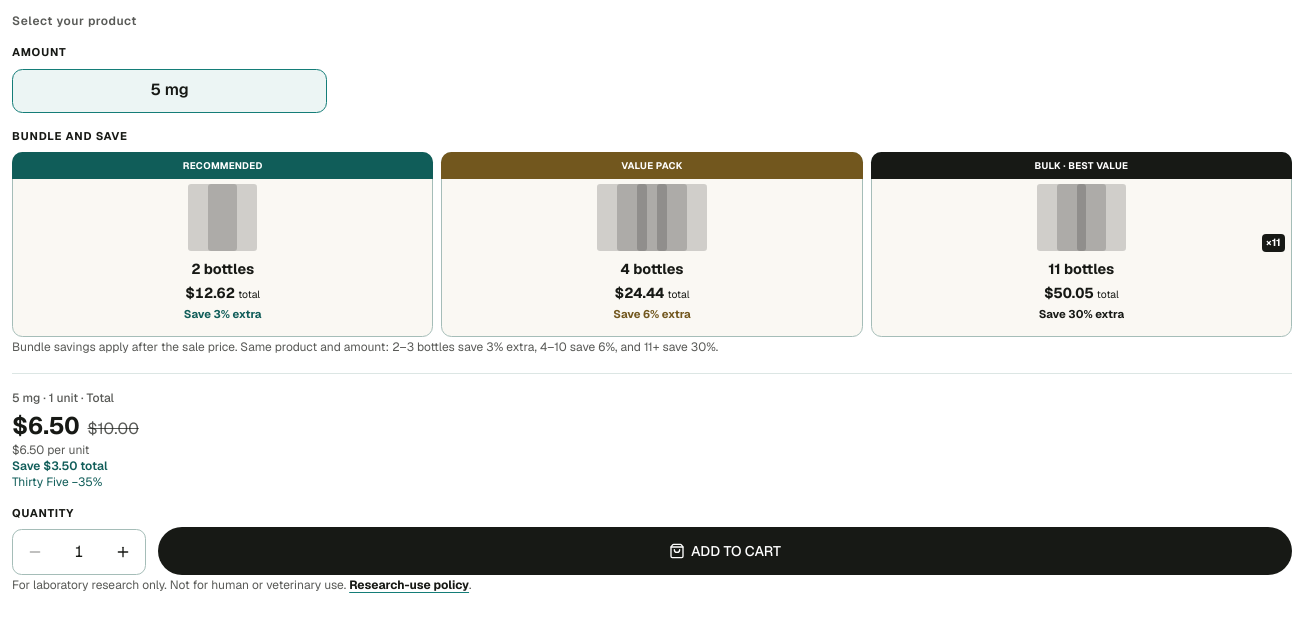
Test: ProductPurchasePanel › uses only the highest eligible discount and its public name
Replace the text in the number field labelled "Quantity" with "10": (79, 552) x1=57 y1=530 x2=101 y2=574
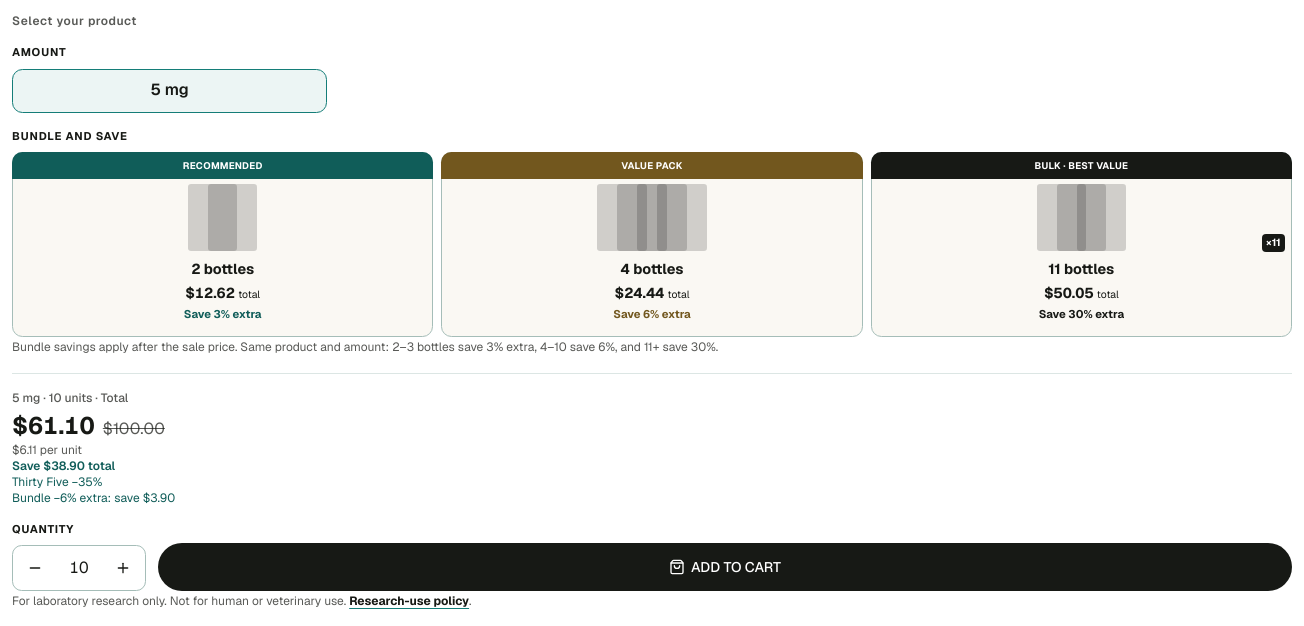
expect the message named "Purchase summary" shows "35%": met, box x1=12 y1=390 x2=175 y2=506
expect the message named "Purchase summary" shows "$61.10": met, box x1=12 y1=410 x2=95 y2=441
